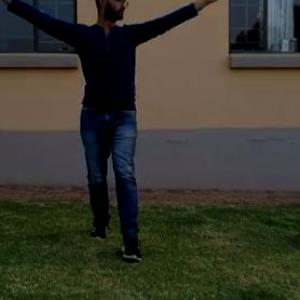takeoff: (38, 0, 205, 194)
